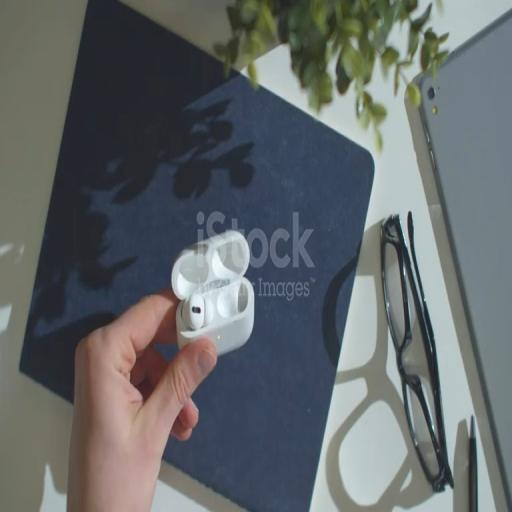earphone: (166, 246, 259, 358)
